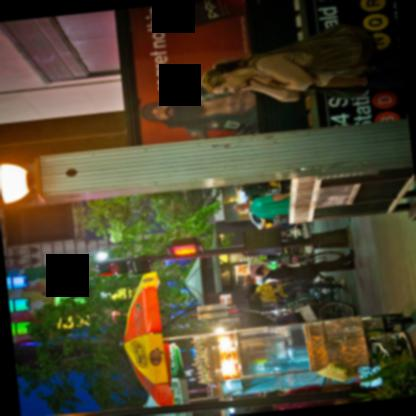handbag: (252, 21, 374, 77), (315, 361, 357, 381)
